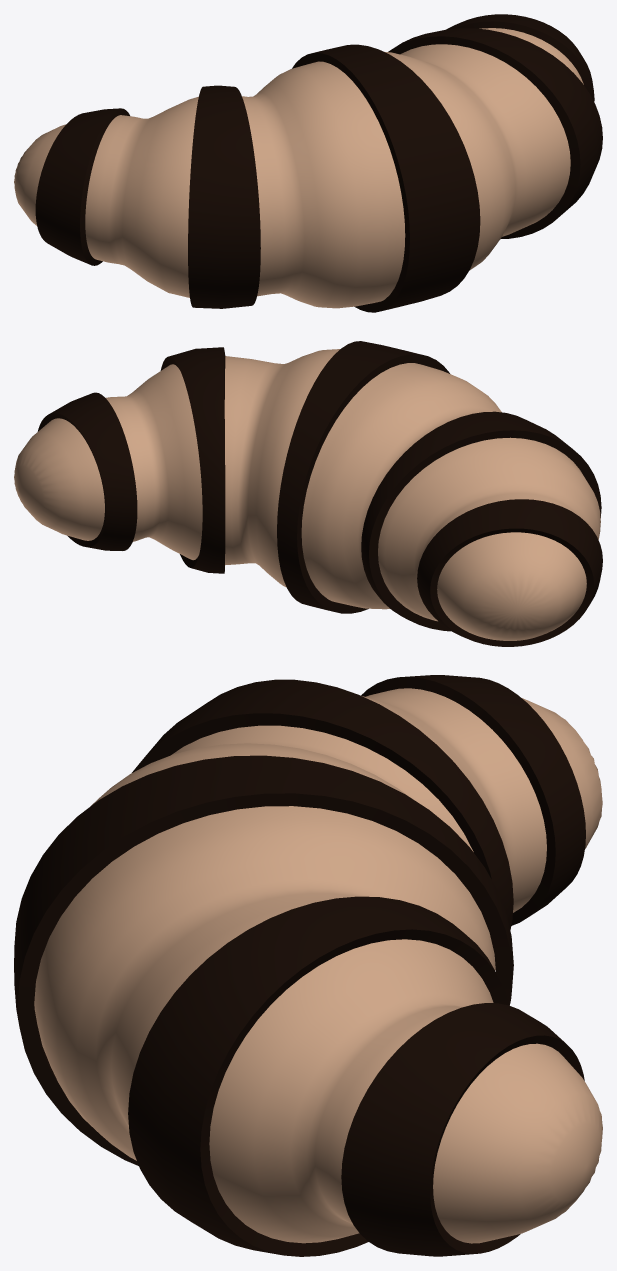
The model's file is chocolate croissant.FBX.
3 renders of one model, top to bottom at view 1: azimuth 30°, elevation 25°; view 2: azimuth 150°, elevation 25°; view 3: azimuth 270°, elevation 25°, orthographic. The views are drawn at different scales.
Visible parts, largest first — view 1: crossiant, toppings; view 2: crossiant, toppings; view 3: crossiant, toppings.
Part boxes in pixels (left/top/right/bottom): crossiant: left=14, top=28, right=583, bottom=308; toppings: left=35, top=14, right=602, bottom=312; crossiant: left=14, top=349, right=600, bottom=640; toppings: left=37, top=341, right=602, bottom=646; crossiant: left=34, top=688, right=602, bottom=1243; toppings: left=14, top=675, right=585, bottom=1256.
Bounding box in the file's own units: 202 × 82.13 × 111.
